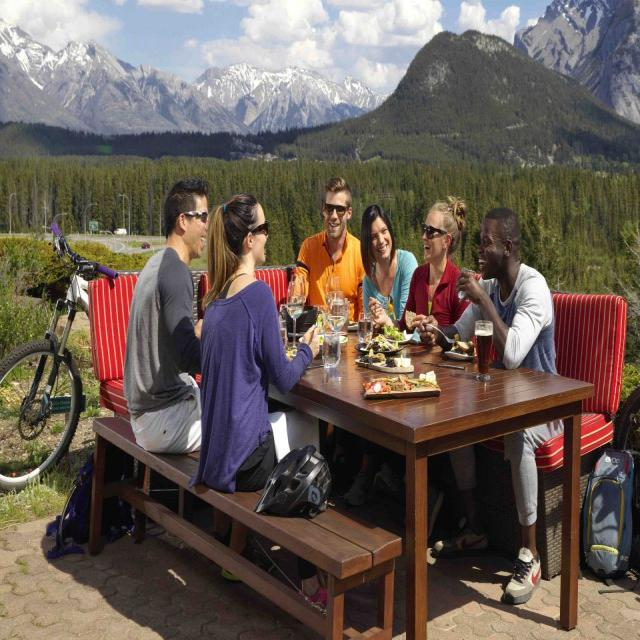body: (410, 203, 560, 609), (198, 192, 321, 494), (122, 175, 211, 458), (367, 193, 477, 348), (286, 175, 368, 337), (359, 202, 422, 343)
